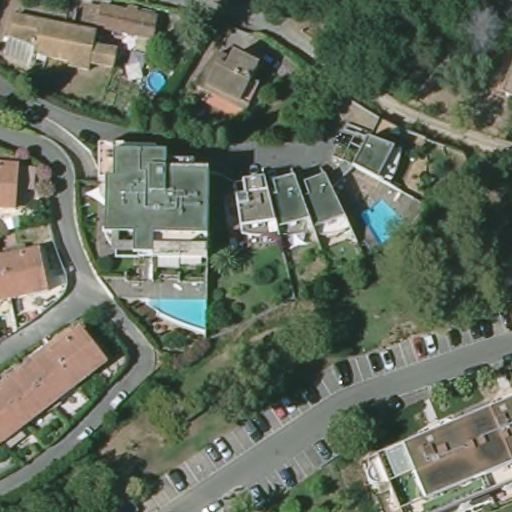pool: (149, 294, 208, 334), (361, 200, 409, 247), (144, 71, 170, 95)
